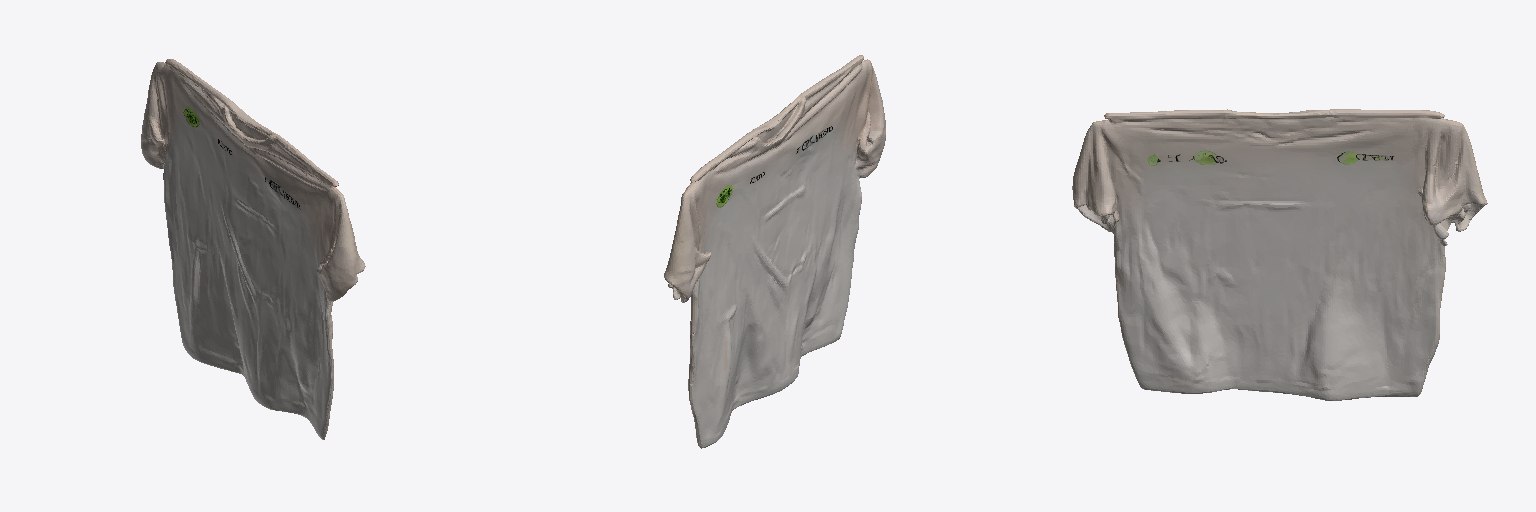
The picture shows the model from 3 angles: view 1: azimuth 30°, elevation 25°; view 2: azimuth 150°, elevation 25°; view 3: azimuth 270°, elevation 25°; orthographic projection.
Size of the model in its own units: 0.2462 by 1.51 by 1.98.
Materials: 1 (1 with a texture image).